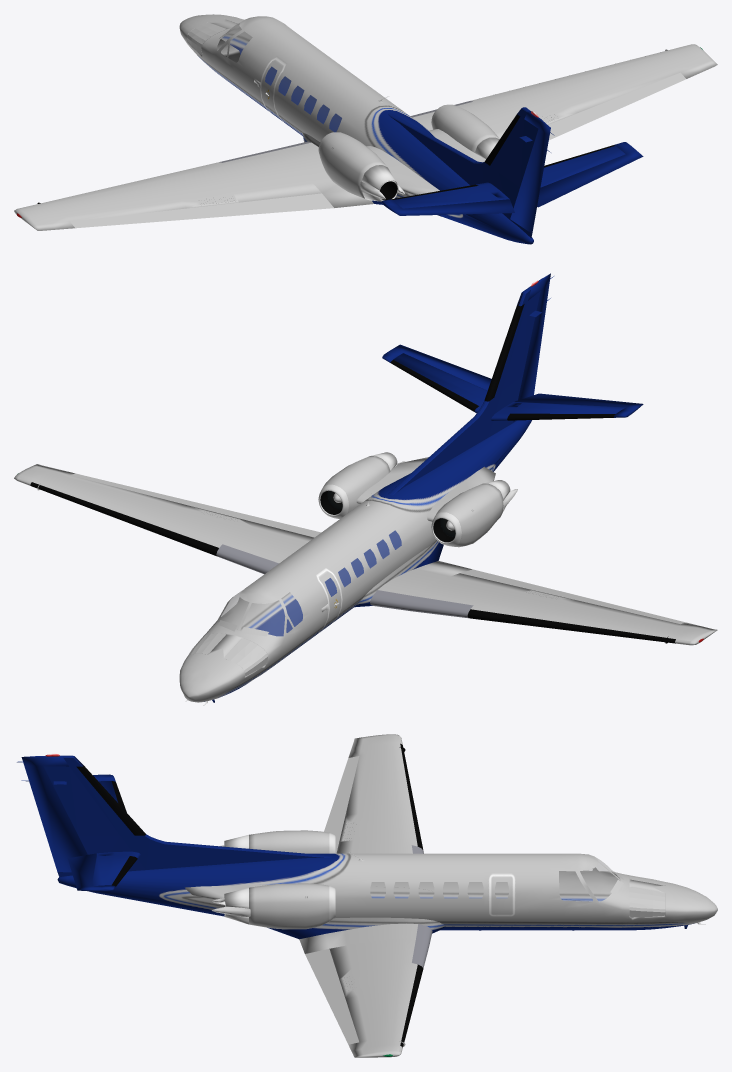
File: citation.dae
3 views of the same model, one above another, from view 1: azimuth 30°, elevation 25°; view 2: azimuth 150°, elevation 25°; view 3: azimuth 270°, elevation 25° (orthographic). The views are drawn at different scales.
Parts seen in each view (by area): view 1: Fuselage, LHwing_002, RHwing_003, LHwing_003, Fin, RHwing_002, Hstab, LEngine, Rudder, LHflap, LHwing_001, REngine (+13 smaller); view 2: Fuselage, Fin, RHwing_002, LHwing_002, RHwing_003, LHwing_003, Hstab, LEngine, Glass, Glass_inside, REngine, Pylons (+16 smaller); view 3: Fuselage, Fin, LHwing_003, RHwing_002, REngine, RHwing_003, Rudder, LHwing_002, RHwing_001, LEngine, Glass, Glass_inside (+10 smaller).
Boxes of the visible parts, x1,y1,x2,y2 form: Fuselage: [179, 14, 533, 244]; LHwing_002: [154, 150, 321, 208]; RHwing_003: [543, 44, 717, 113]; LHwing_003: [14, 177, 187, 230]; Fin: [388, 107, 538, 237]; RHwing_002: [414, 82, 576, 138]; Hstab: [393, 146, 625, 208]; LEngine: [319, 132, 387, 198]; Rudder: [510, 111, 554, 233]; LHflap: [188, 193, 333, 218]; LHwing_001: [277, 142, 373, 207]; REngine: [432, 105, 499, 152]; Fuselage: [179, 420, 531, 702]; Fin: [388, 287, 541, 495]; RHwing_002: [154, 505, 313, 562]; LHwing_002: [414, 573, 576, 619]; RHwing_003: [14, 464, 187, 524]; LHwing_003: [543, 600, 717, 645]; Hstab: [393, 353, 625, 420]; LEngine: [436, 483, 503, 547]; Glass: [218, 591, 302, 635]; Glass_inside: [218, 592, 302, 635]; REngine: [323, 456, 390, 513]; Pylons: [356, 457, 495, 521]; Fuselage: [57, 852, 717, 939]; Fin: [43, 755, 331, 876]; LHwing_003: [345, 734, 411, 815]; RHwing_002: [329, 938, 417, 998]; REngine: [249, 883, 329, 929]; RHwing_003: [345, 991, 411, 1057]; Rudder: [17, 755, 87, 872]; LHwing_002: [336, 809, 417, 853]; RHwing_001: [299, 923, 417, 953]; LEngine: [249, 830, 329, 853]; Glass: [559, 858, 618, 901]; Glass_inside: [559, 858, 617, 901].
Size of the model in its own units: 15.62 by 14.48 by 4.06.
